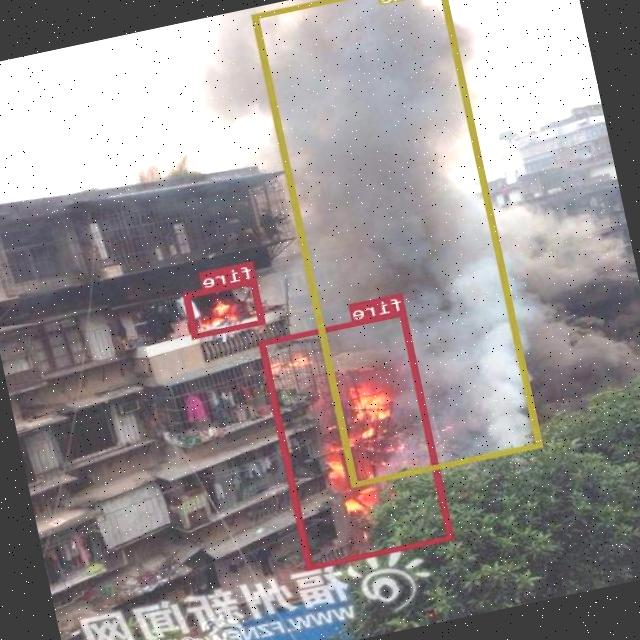fire: (260, 308, 455, 569), (184, 276, 265, 338)
smoke: (252, 0, 543, 485)
